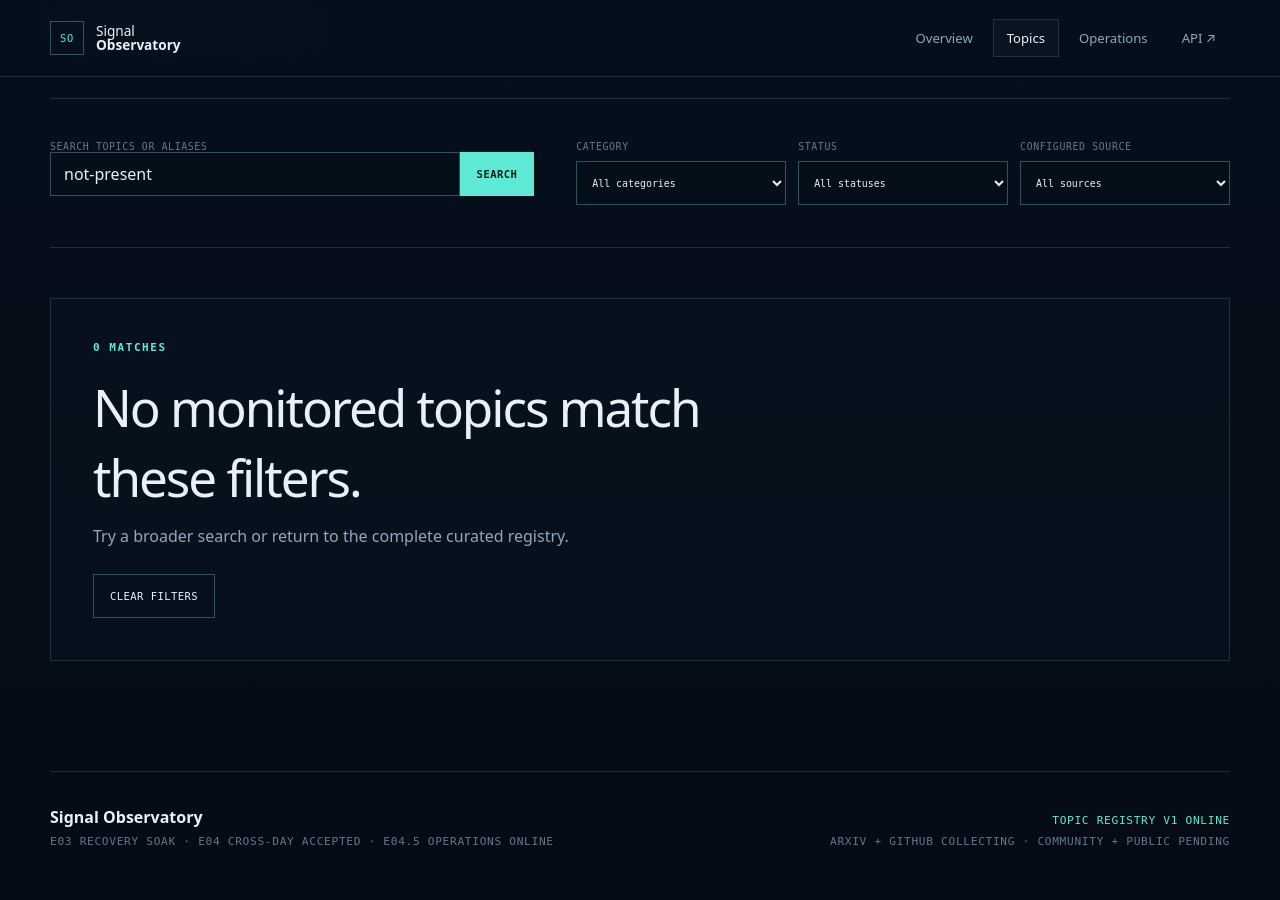
it: Topic Explorer › shows a useful empty state and clears filters
The image size is (1280, 900).
(page scrolled)
Check: the heading "No monitored topics match these filters." is shown, box x1=93 y1=372 x2=700 y2=512
Click the button "Clear filters": (154, 596) x1=93 y1=574 x2=215 y2=618
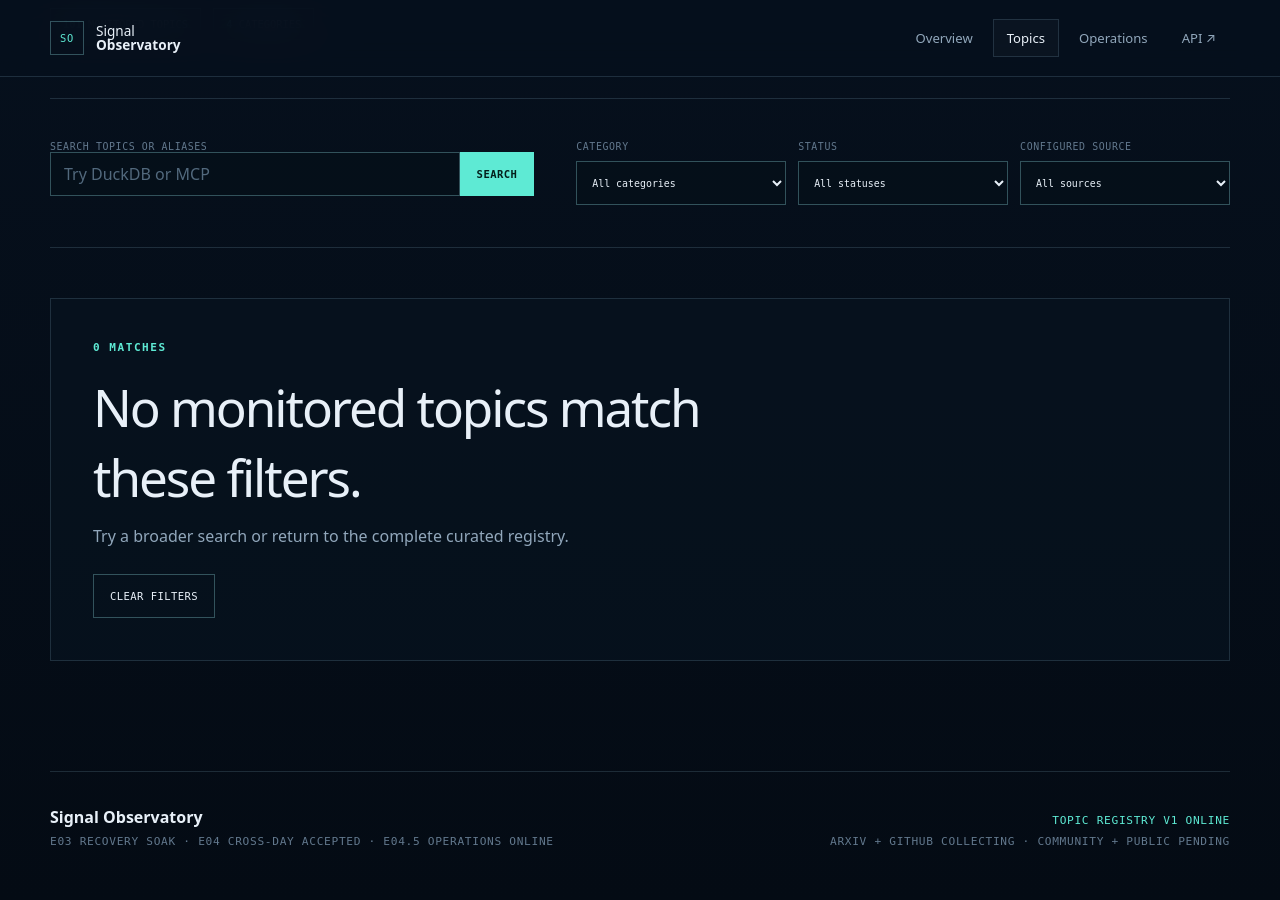
Check: the search field labelled "Search topics or aliases" is empty, box x1=50 y1=152 x2=460 y2=196
